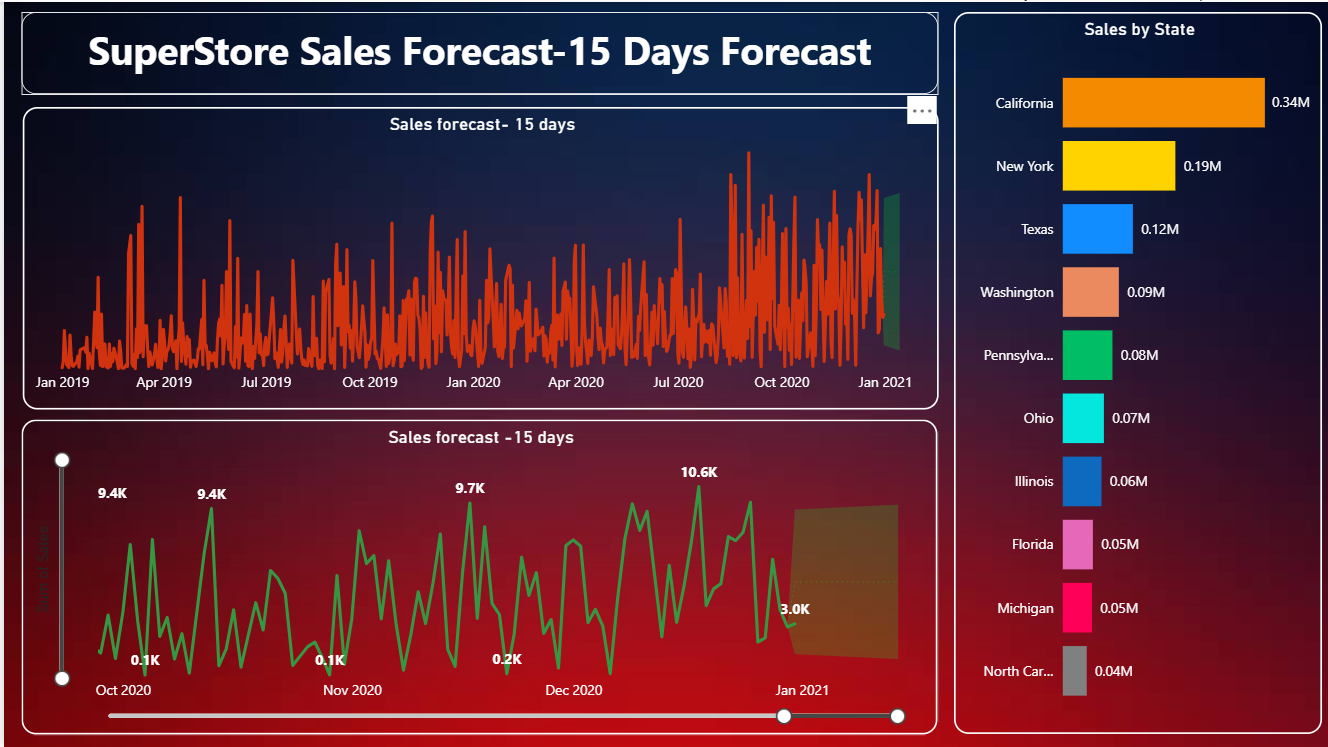

Layout of this report page (visuals, bound fields, positions):
{"tool":"powerbi","page":{"name":"Page 2","canvas":[1280,720],"ordinal":1},"visuals":[{"type":"lineChart","title":"Sales forecast- 15 days","fields":{"Y":["Sum(SuperStore_Sales_Dataset.Sales)"],"Category":["SuperStore_Sales_Dataset.Order Date"]},"box":[18.1,101.3,884.3,292],"z":0},{"type":"lineChart","title":"Sales forecast -15 days","fields":{"Y":["Sum(SuperStore_Sales_Dataset.Sales)"],"Category":["SuperStore_Sales_Dataset.Order Date"]},"box":[16.9,403,884.3,304],"z":1000},{"type":"barChart","title":"Sales by State","fields":{"Category":["SuperStore_Sales_Dataset.State"],"Y":["Sum(SuperStore_Sales_Dataset.Sales)"]},"box":[916.6,9.6,355.4,697.1],"z":2000},{"type":"textbox","box":[16.5,9.6,885.1,79.6],"z":3000}]}

Visuals, with their boxes in screenshot pixels (x1, y1, x2, y2), scaled from the page's 1280x720 canvas onto the 1328x747 screenshot:
"Sales forecast- 15 days" lineChart: 19,105,936,408
"Sales forecast -15 days" lineChart: 18,418,935,734
"Sales by State" barChart: 951,10,1320,733
textbox: 17,10,935,93
